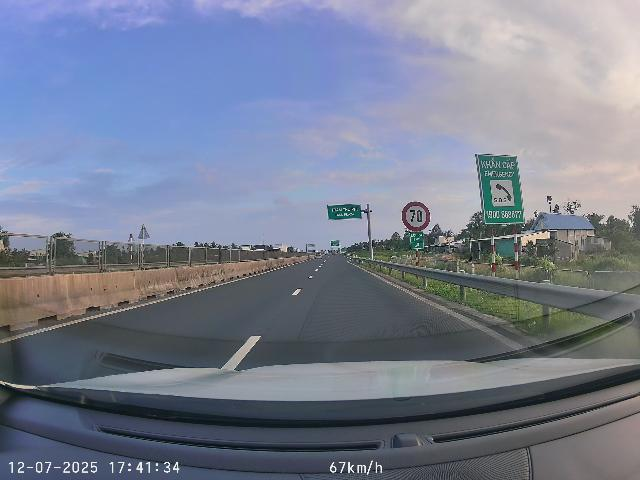127-toc-do-toi-da-70: (401, 201, 431, 231)
